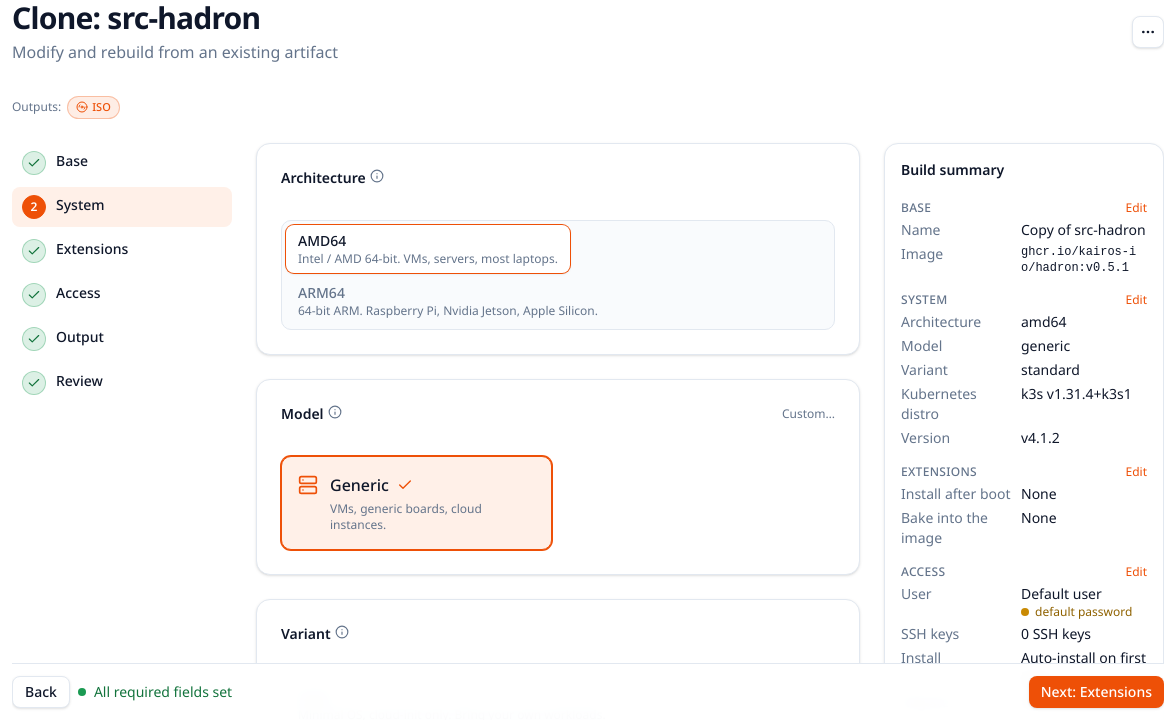
Test: ArtifactBuilder: Hadron clone › preserves kubernetesDistro and kubernetesEnabled when cloning a Standard Hadron build
Step 1. Click the button "Output" → (122, 338), box [12,318,232,358]
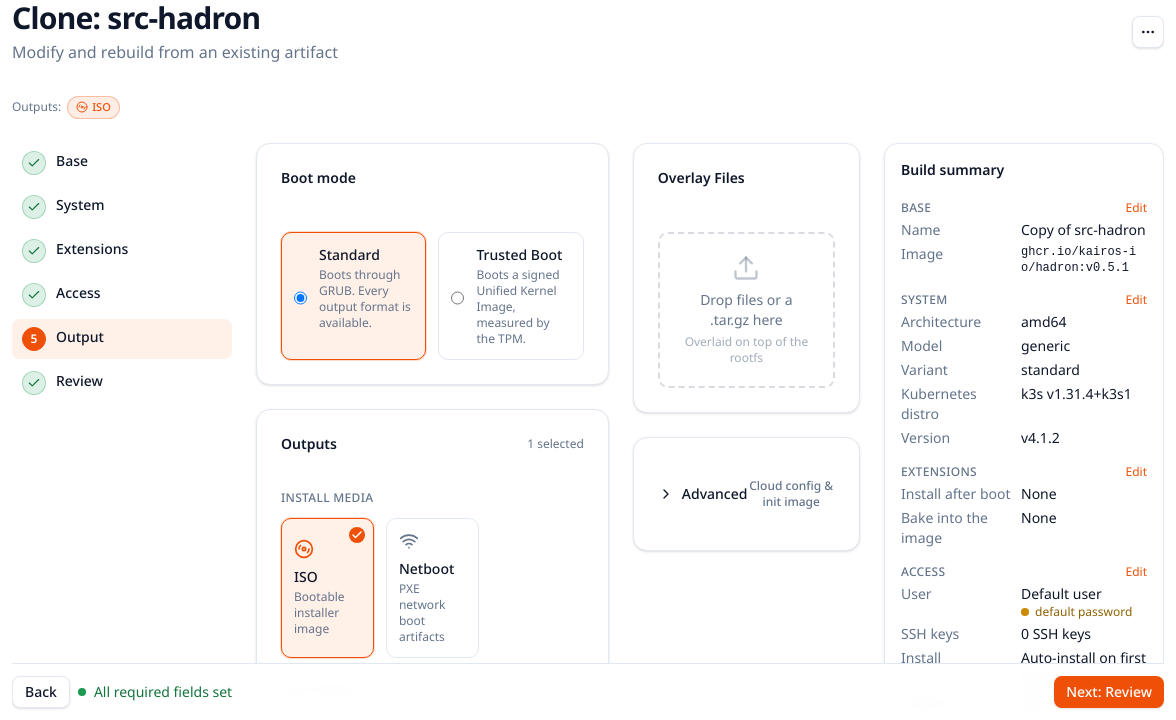
Step 2. Click the button "Advanced Cloud config & init image" → (746, 494), box [634,462,859,526]
(page scrolled)
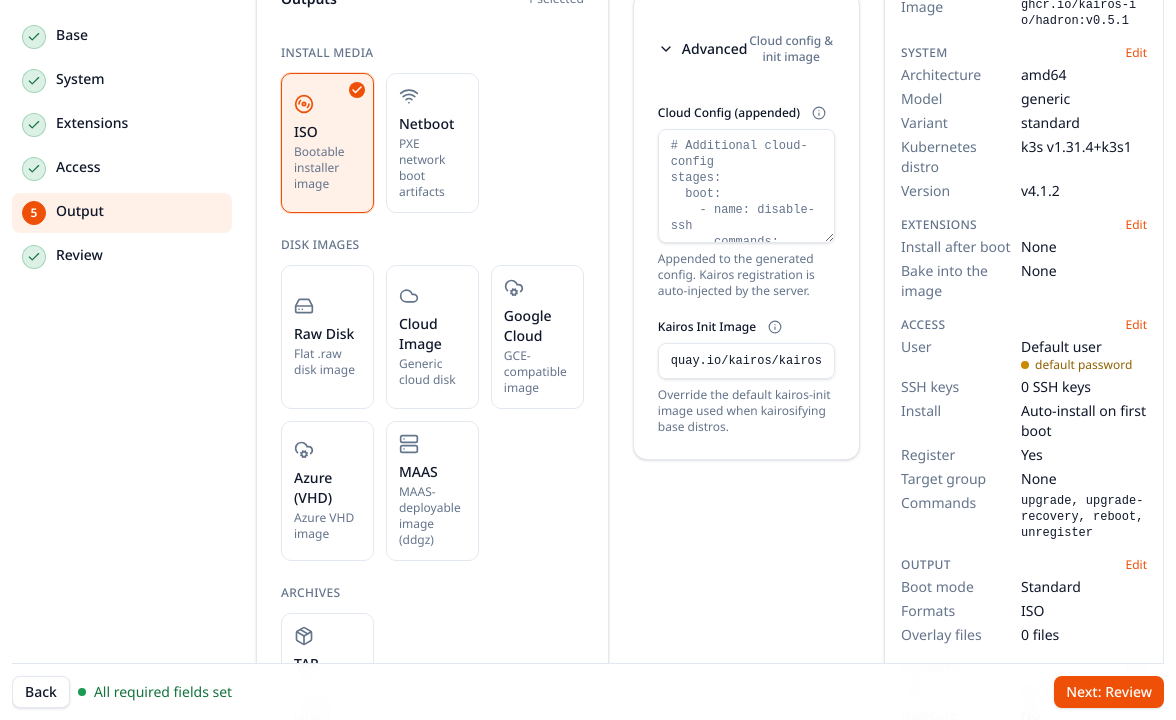
Now the field showing "quay.io/kairos/kairos-init:v0.5.0" is shown, box [658,342,835,378]
